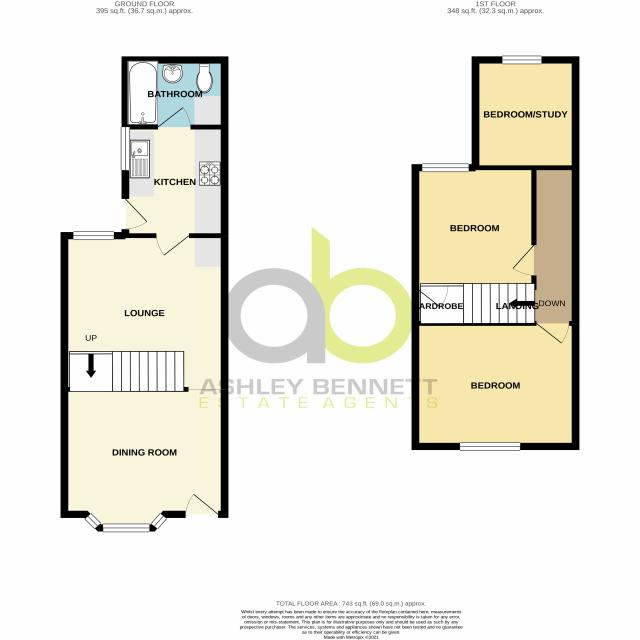DOOR: (508, 243, 538, 278), (535, 320, 572, 346), (121, 197, 149, 230), (184, 493, 219, 518), (155, 233, 190, 257), (157, 106, 191, 130)
ROOM: (60, 231, 229, 532), (411, 321, 580, 451), (120, 106, 229, 257), (411, 163, 538, 285), (471, 56, 581, 171)
WINDOW: (459, 441, 521, 451), (120, 126, 131, 171), (421, 163, 470, 173), (102, 523, 150, 533), (501, 55, 542, 65), (73, 231, 115, 240), (84, 512, 102, 530), (150, 512, 168, 530)
